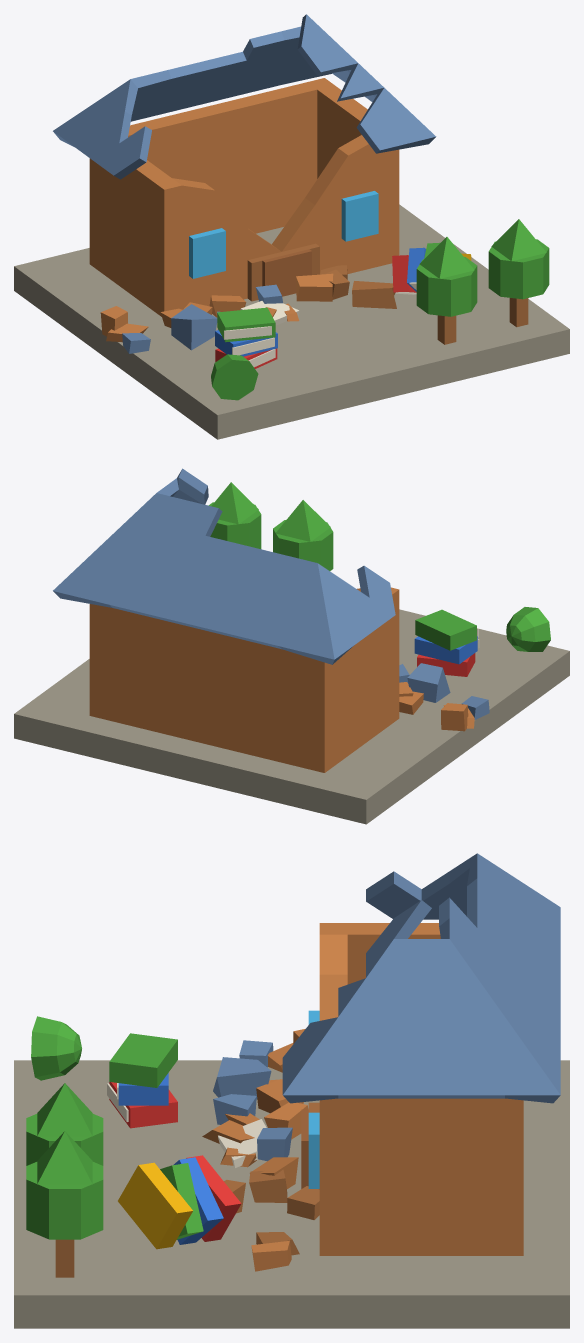
Rendered from library_t1_v2_dmg1.glb.
The picture shows the model from 3 angles, top to bottom: view 1: azimuth 30°, elevation 25°; view 2: azimuth 150°, elevation 25°; view 3: azimuth 270°, elevation 25°; orthographic projection. The views are drawn at different scales.
Parts seen in each view (by area): view 1: library_t1_v2_dmg1; view 2: library_t1_v2_dmg1; view 3: library_t1_v2_dmg1.
Part boxes in pixels (bbox=[...]): library_t1_v2_dmg1: bbox=[14, 14, 569, 439]; library_t1_v2_dmg1: bbox=[14, 468, 569, 824]; library_t1_v2_dmg1: bbox=[14, 853, 569, 1328].
Size of the model in its own units: 0.6132 by 0.42 by 0.6.
1 material, 1 textured.
